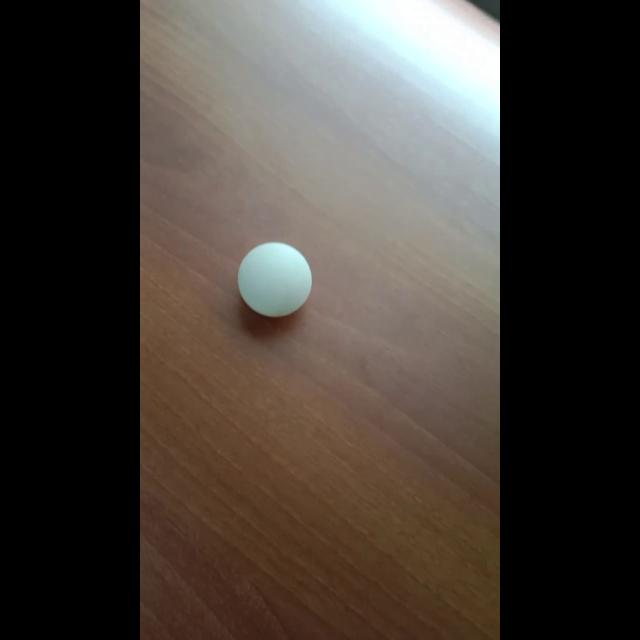white ball: (236, 242, 312, 318)
